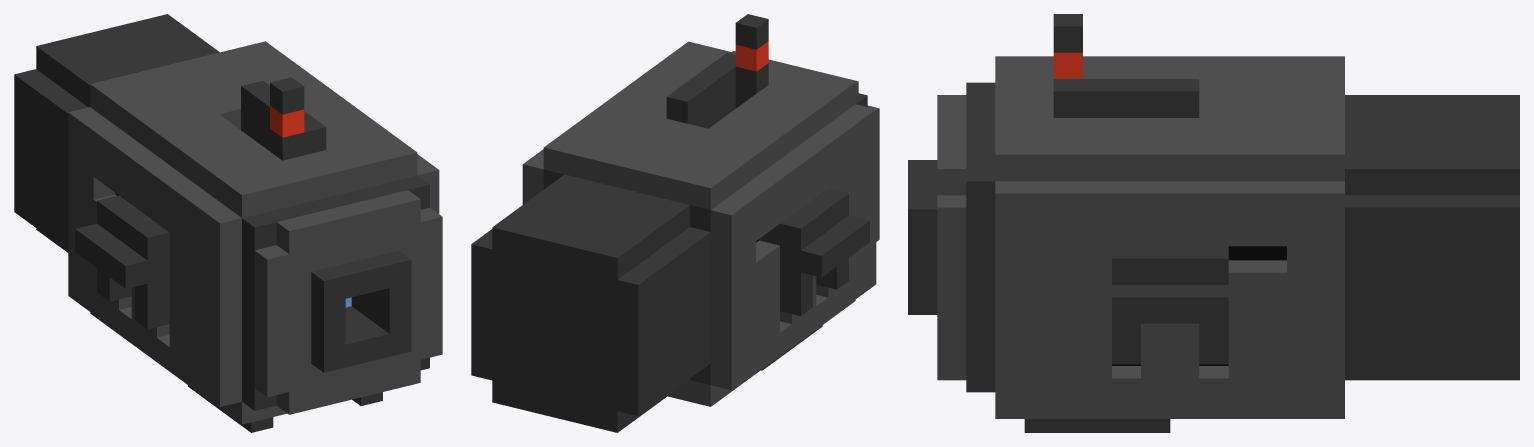
Rendered from Other-6.obj.
3 views of the same model, side by side, from view 1: azimuth 30°, elevation 25°; view 2: azimuth 150°, elevation 25°; view 3: azimuth 270°, elevation 25° (orthographic). The views are drawn at different scales.
Size of the model in its own units: 1.4 by 1.4 by 2.1.
1 material, 1 textured.
